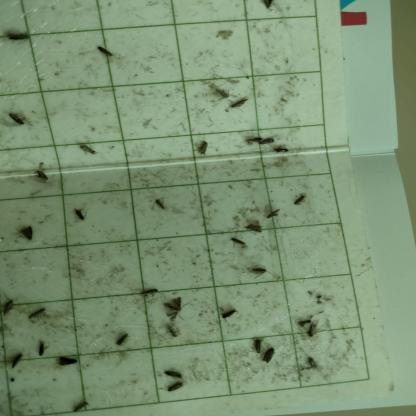prays_oleae: (74, 129, 102, 173), (3, 20, 37, 56), (136, 276, 166, 312), (90, 38, 119, 70), (7, 100, 29, 141), (50, 348, 82, 376), (160, 293, 186, 323), (258, 340, 282, 372), (5, 346, 28, 378), (222, 226, 248, 254), (212, 300, 238, 326), (239, 124, 263, 152), (0, 285, 18, 321), (30, 161, 52, 190), (198, 130, 214, 168), (70, 204, 89, 236), (31, 334, 51, 364), (163, 320, 183, 350), (227, 92, 249, 118), (244, 262, 270, 284), (302, 320, 328, 342), (212, 74, 229, 107), (20, 217, 37, 249), (70, 392, 92, 416), (264, 202, 284, 228), (160, 362, 186, 382), (248, 326, 264, 358), (258, 132, 282, 153), (29, 300, 49, 324), (150, 188, 166, 218), (302, 354, 323, 376), (111, 330, 130, 354), (290, 190, 306, 214), (268, 144, 292, 159), (244, 218, 264, 236), (165, 382, 189, 396), (292, 314, 310, 332)
